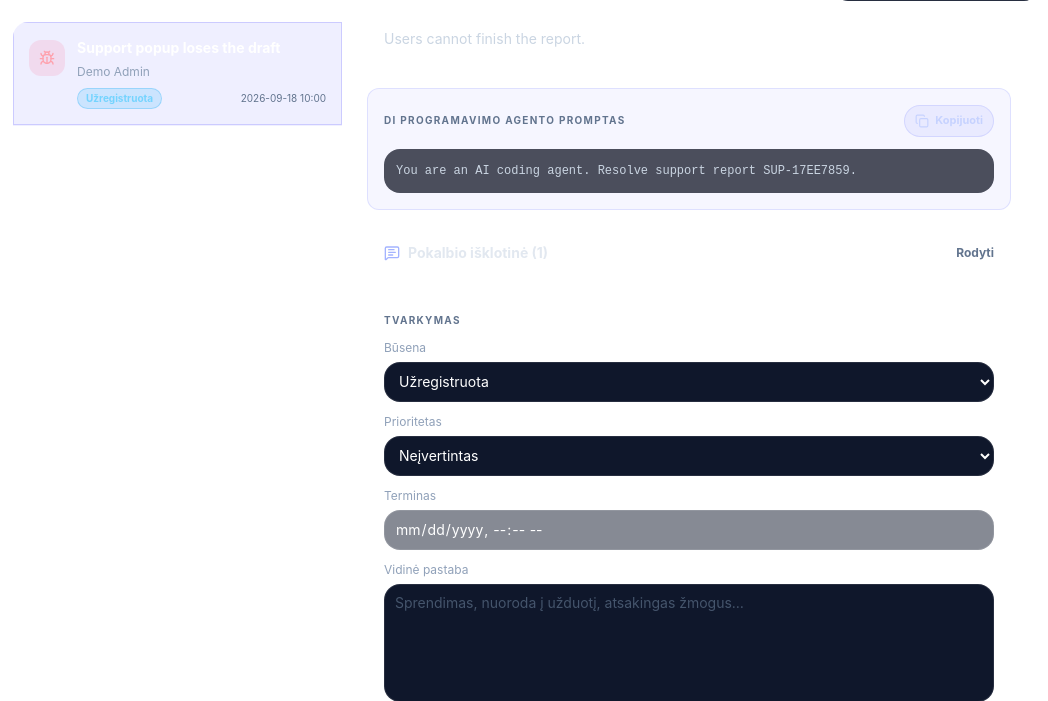
admin support requests › requires a deadline when moving a request into progress
This screenshot has width=1048, height=701.
(page scrolled)
Select "Vykdoma" in the dropdown labelled "Būsena": (689, 382) [384,362,994,402]
(page scrolled)
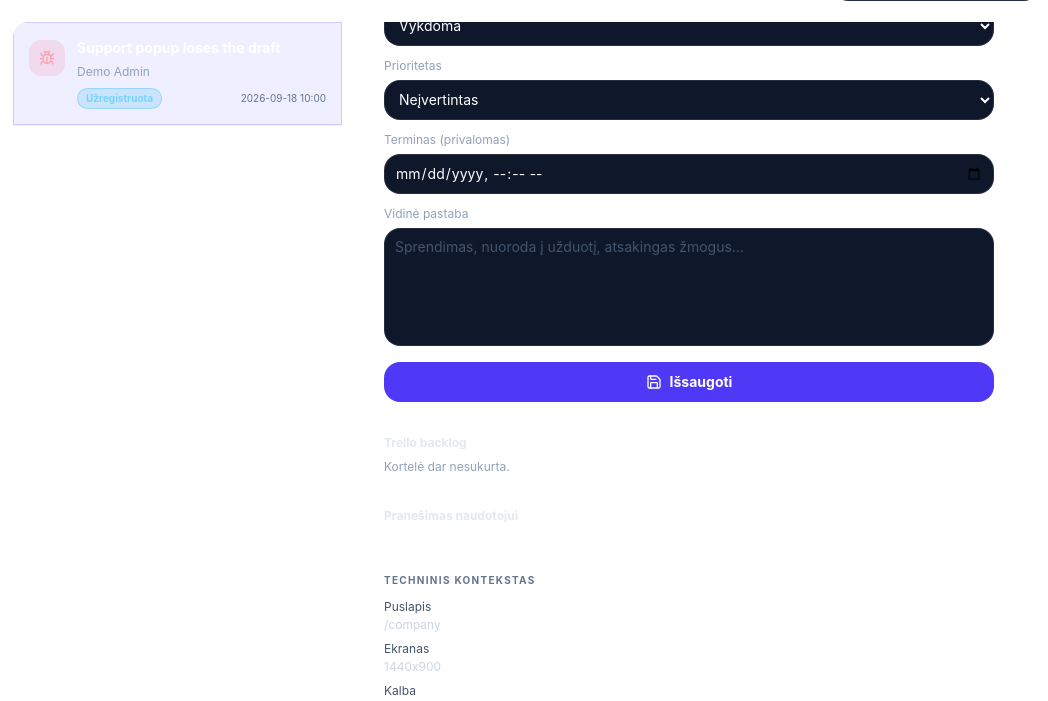
Click the button "Išsaugoti": (689, 382) [384,362,994,402]
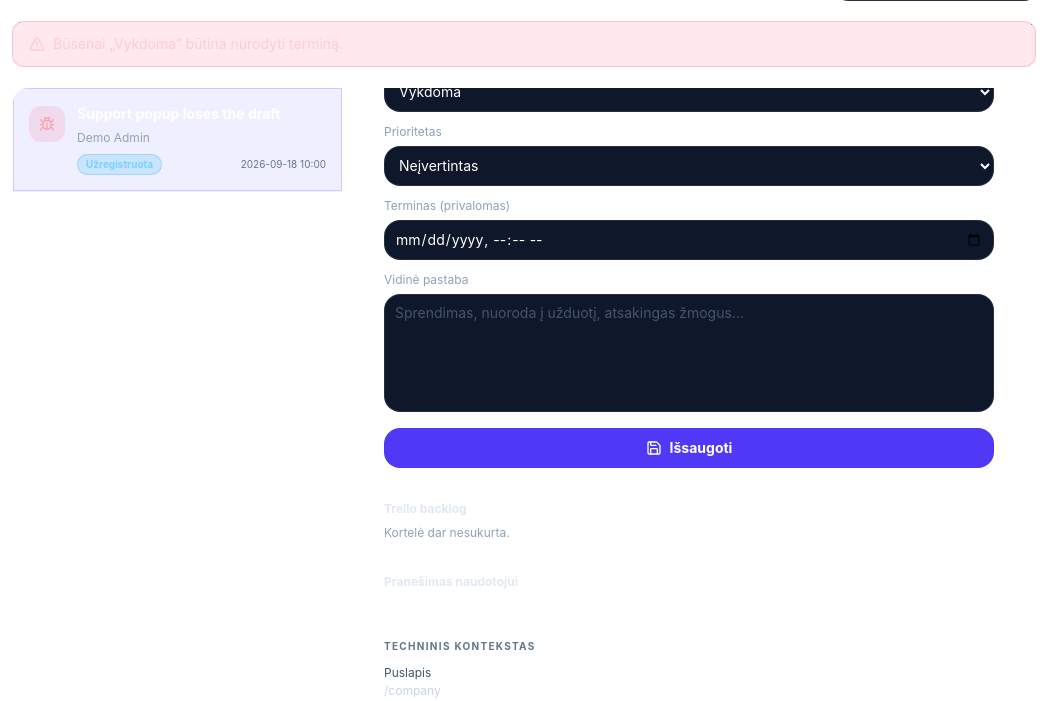
Result: the text "Būsenai „Vykdoma“ būtina nurodyti terminą." is shown at [12,21,1036,67]
In the field labelled "Terminas (privalomas)": (689, 240) [384,220,994,260], type "2026-10-01T12:00"
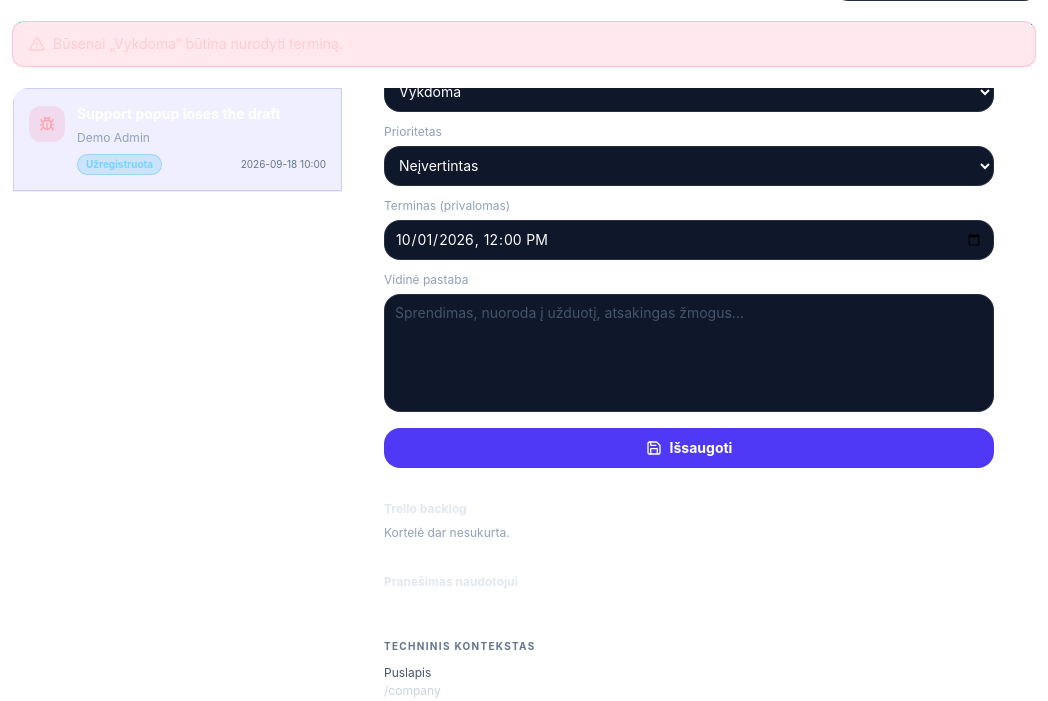
Click the button "Išsaugoti": (689, 448) [384,428,994,468]
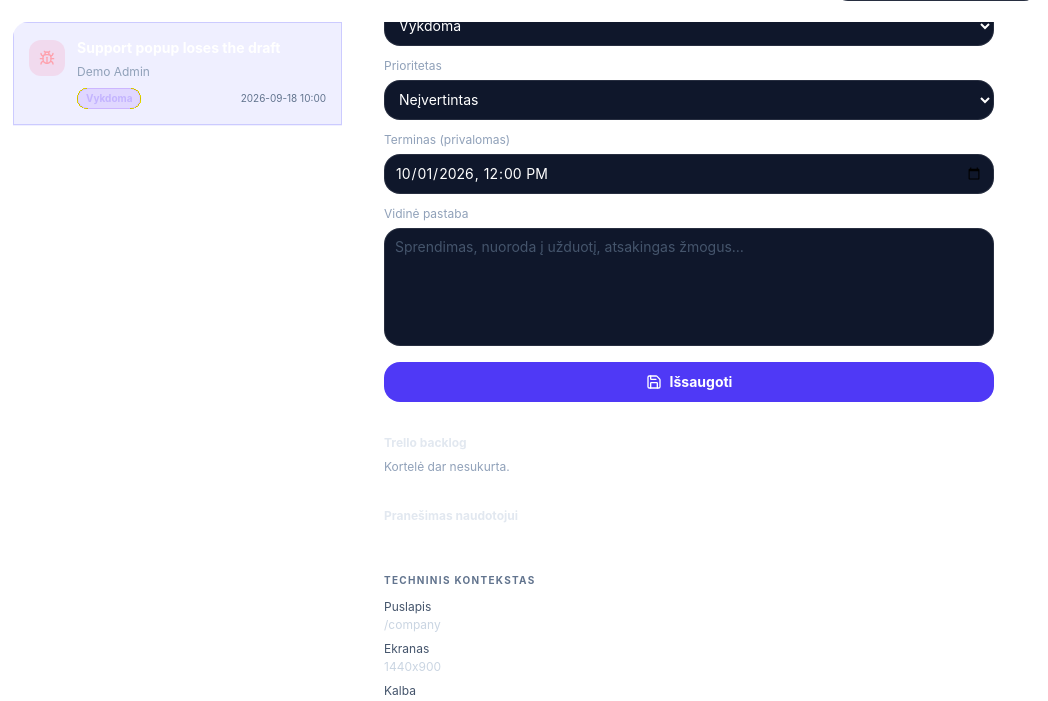
Result: the button that starts with "Support popup loses the draft" is shown at [13,22,342,126]
